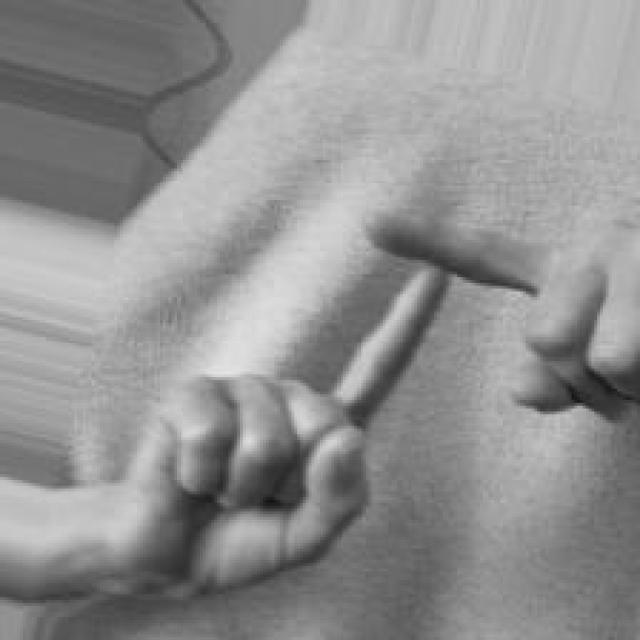T: (123, 203, 640, 597)
